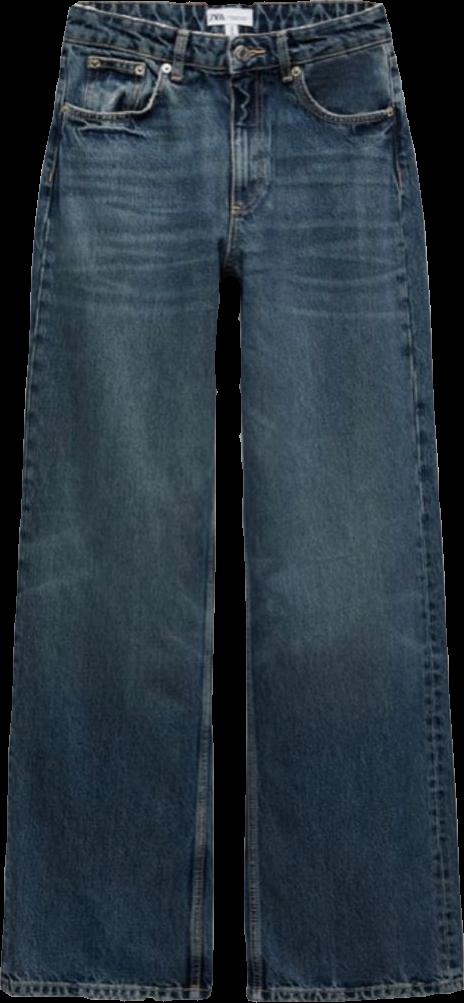Hemline: (246, 981, 463, 1001), (0, 981, 212, 1001)
Pantleg: (226, 0, 463, 1002), (0, 0, 235, 1001)
Waistline: (72, 2, 381, 44)
